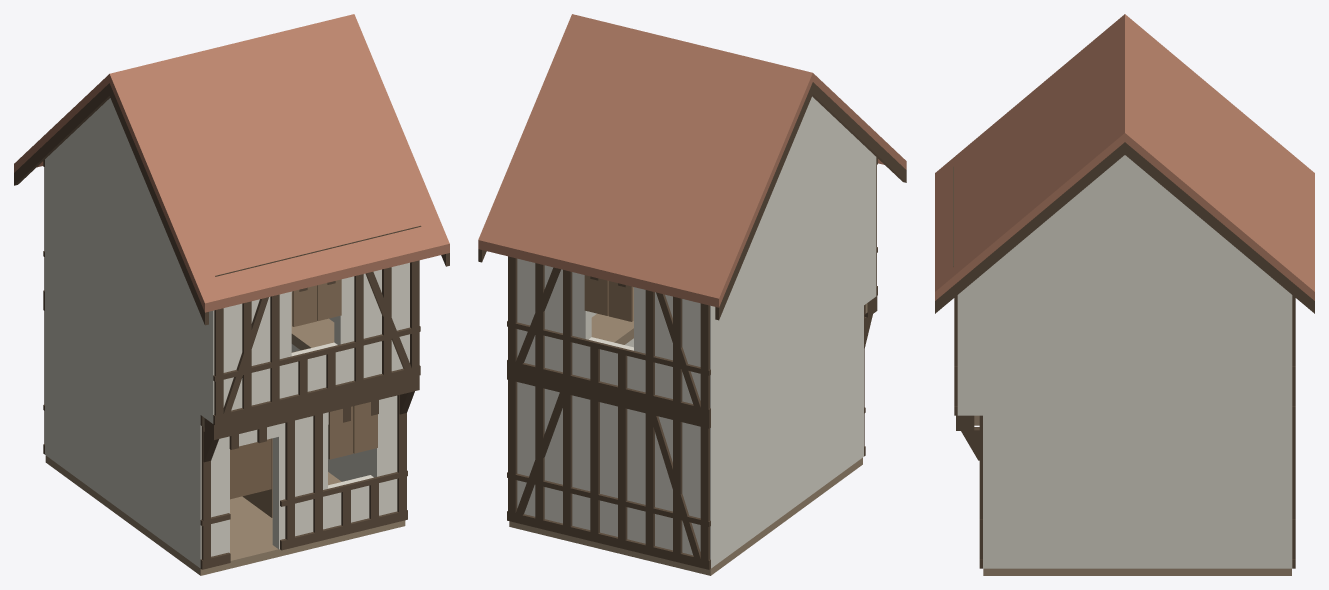
Rendered from artisan-a.glb.
3 renders of one model, left to right at view 1: azimuth 30°, elevation 25°; view 2: azimuth 150°, elevation 25°; view 3: azimuth 270°, elevation 25°, orthographic.
Visible parts, largest first — view 1: render, roof, timber, floor, artisan-a-door-01 leaf, artisan-a-shutter-01 leaf, artisan-a-shutter-02 leaf, artisan-a-shutter-03 leaf, artisan-a-shutter-04 leaf, stair; view 2: render, roof, timber, floor, artisan-a-shutter-06 leaf, artisan-a-shutter-05 leaf; view 3: render, roof, timber, floor.
Part boxes in pixels (x1,y1,x2,y2): render: [45, 98, 409, 568]; roof: [14, 14, 449, 312]; timber: [14, 83, 449, 569]; floor: [45, 292, 405, 575]; artisan-a-door-01 leaf: [230, 438, 271, 499]; artisan-a-shutter-01 leaf: [328, 406, 353, 459]; artisan-a-shutter-02 leaf: [353, 402, 377, 453]; artisan-a-shutter-03 leaf: [292, 285, 317, 326]; artisan-a-shutter-04 leaf: [317, 279, 341, 320]; stair: [242, 348, 308, 517]; render: [517, 96, 876, 568]; roof: [478, 14, 906, 307]; timber: [478, 82, 906, 569]; floor: [509, 287, 867, 575]; artisan-a-shutter-06 leaf: [608, 281, 633, 321]; artisan-a-shutter-05 leaf: [584, 275, 608, 315]; render: [957, 155, 1292, 568]; roof: [935, 14, 1314, 300]; timber: [935, 142, 1314, 568]; floor: [974, 415, 1291, 575].
Bounding box in the file's own units: 5 × 8.88 × 6.75.
